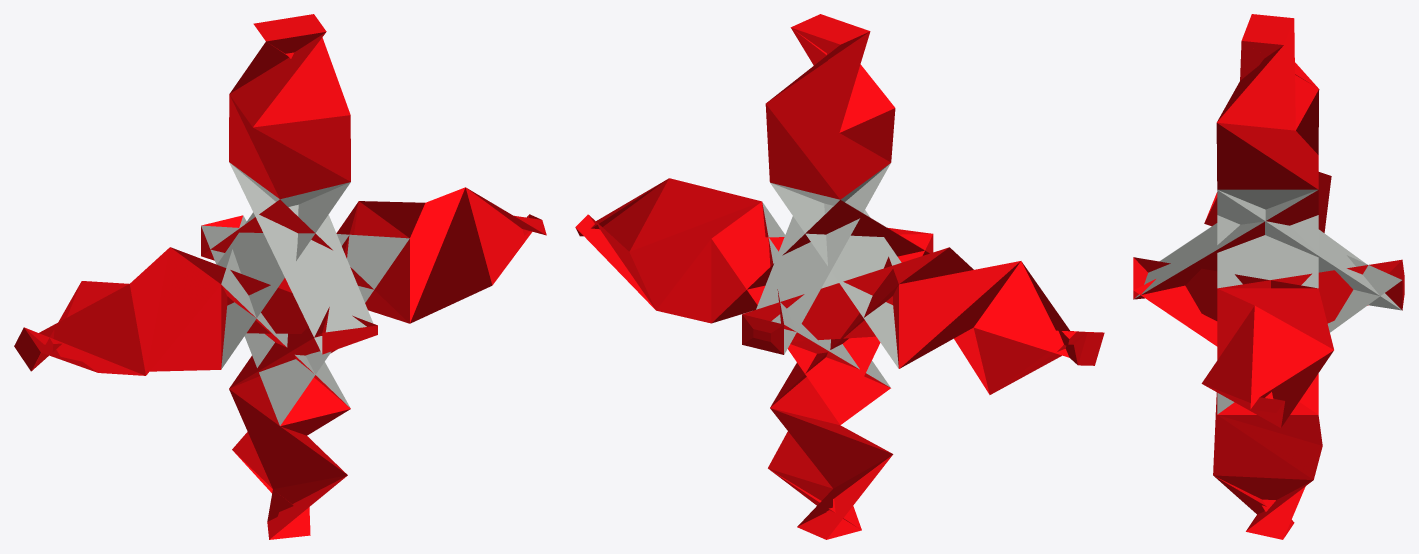
File: 3body.fbx
The picture shows the model from 3 angles, left to right: view 1: azimuth 30°, elevation 25°; view 2: azimuth 150°, elevation 25°; view 3: azimuth 270°, elevation 25°; orthographic projection.
Visible parts, largest first — view 1: Cube; view 2: Cube; view 3: Cube.
Boxes of the visible parts, x1,y1,x2,y2 form: Cube: (14,14,546,539); Cube: (575,14,1104,539); Cube: (1133,14,1404,539).
Size of the model in its own units: 720 by 676 by 334.
